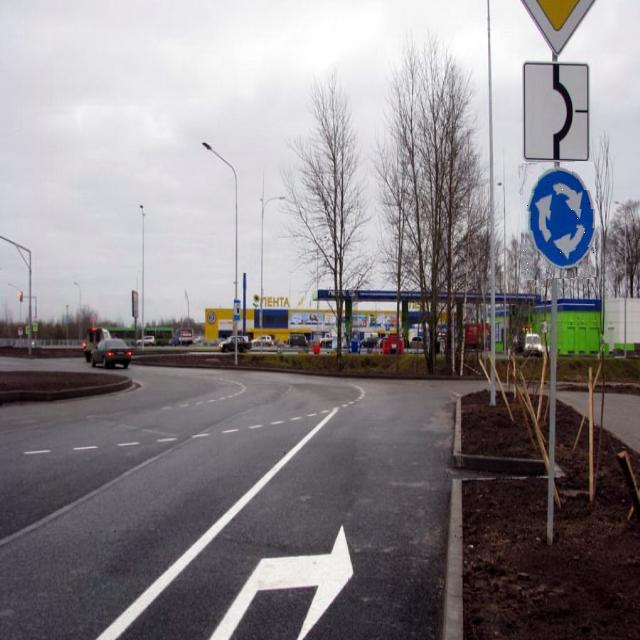roundabout: (520, 162, 595, 280)
